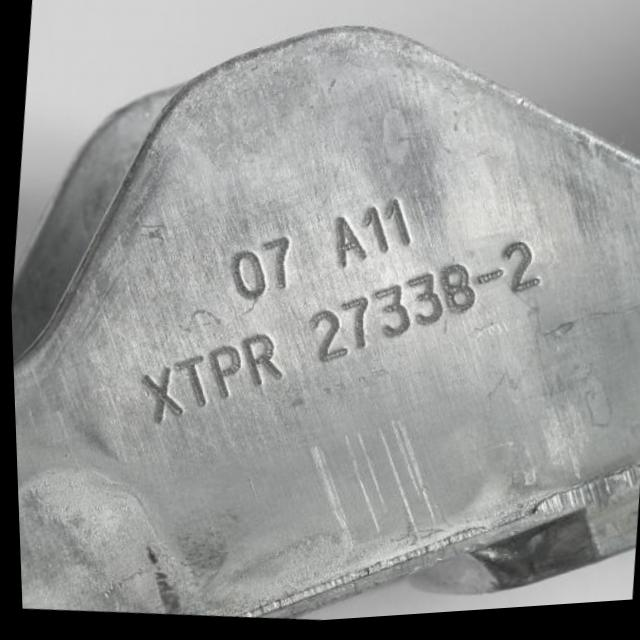ocr: (296, 231, 564, 385), (128, 322, 290, 431), (317, 191, 415, 282), (218, 234, 300, 317)
